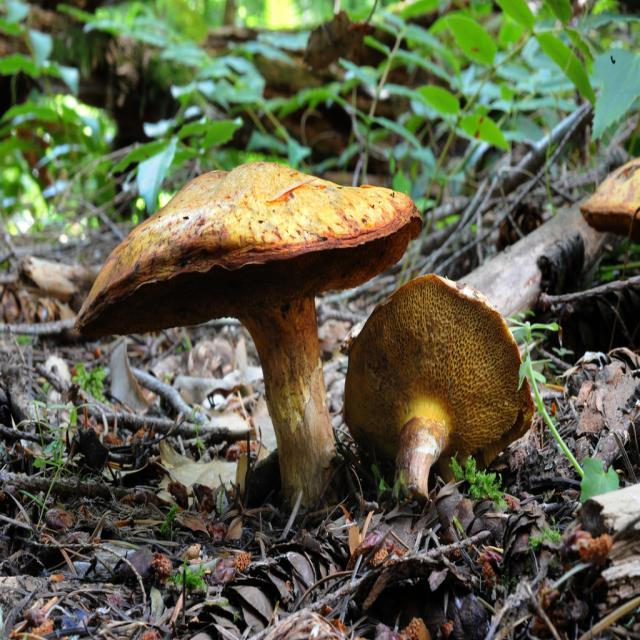Mushroom: (64, 175, 498, 572), (340, 272, 538, 508), (580, 156, 640, 250)
